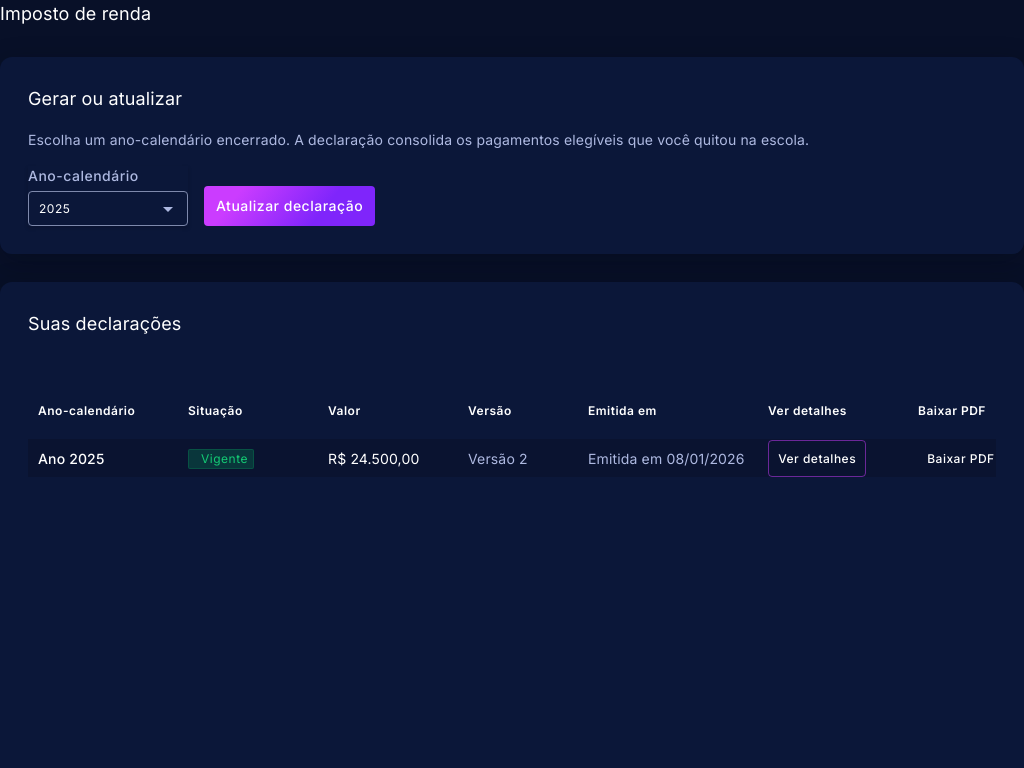
it: MyTaxDeclarations › opens detail metadata for the active version
Expected: the text "Ano 2025" is shown, [38,448,104,470]
Click the button "Ver detalhes": point(817, 459) [768,440,866,477]
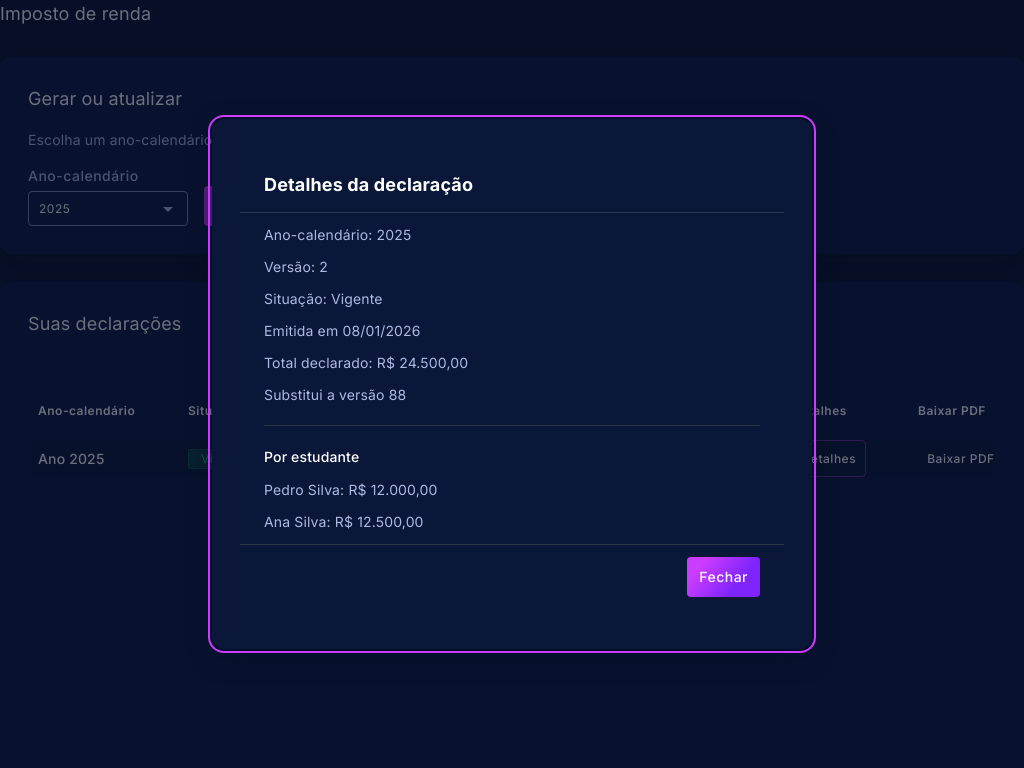
Result: the heading "Detalhes da declaração" is shown at [264,174,473,195]
Result: the text "Pedro Silva: R$ 12.000,00" is shown at [264,481,438,498]
Result: the text "Ana Silva: R$ 12.500,00" is shown at [264,513,424,530]
